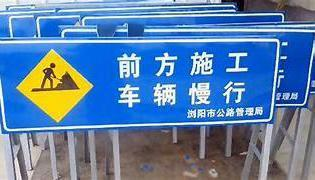sign: (1, 36, 281, 133)
